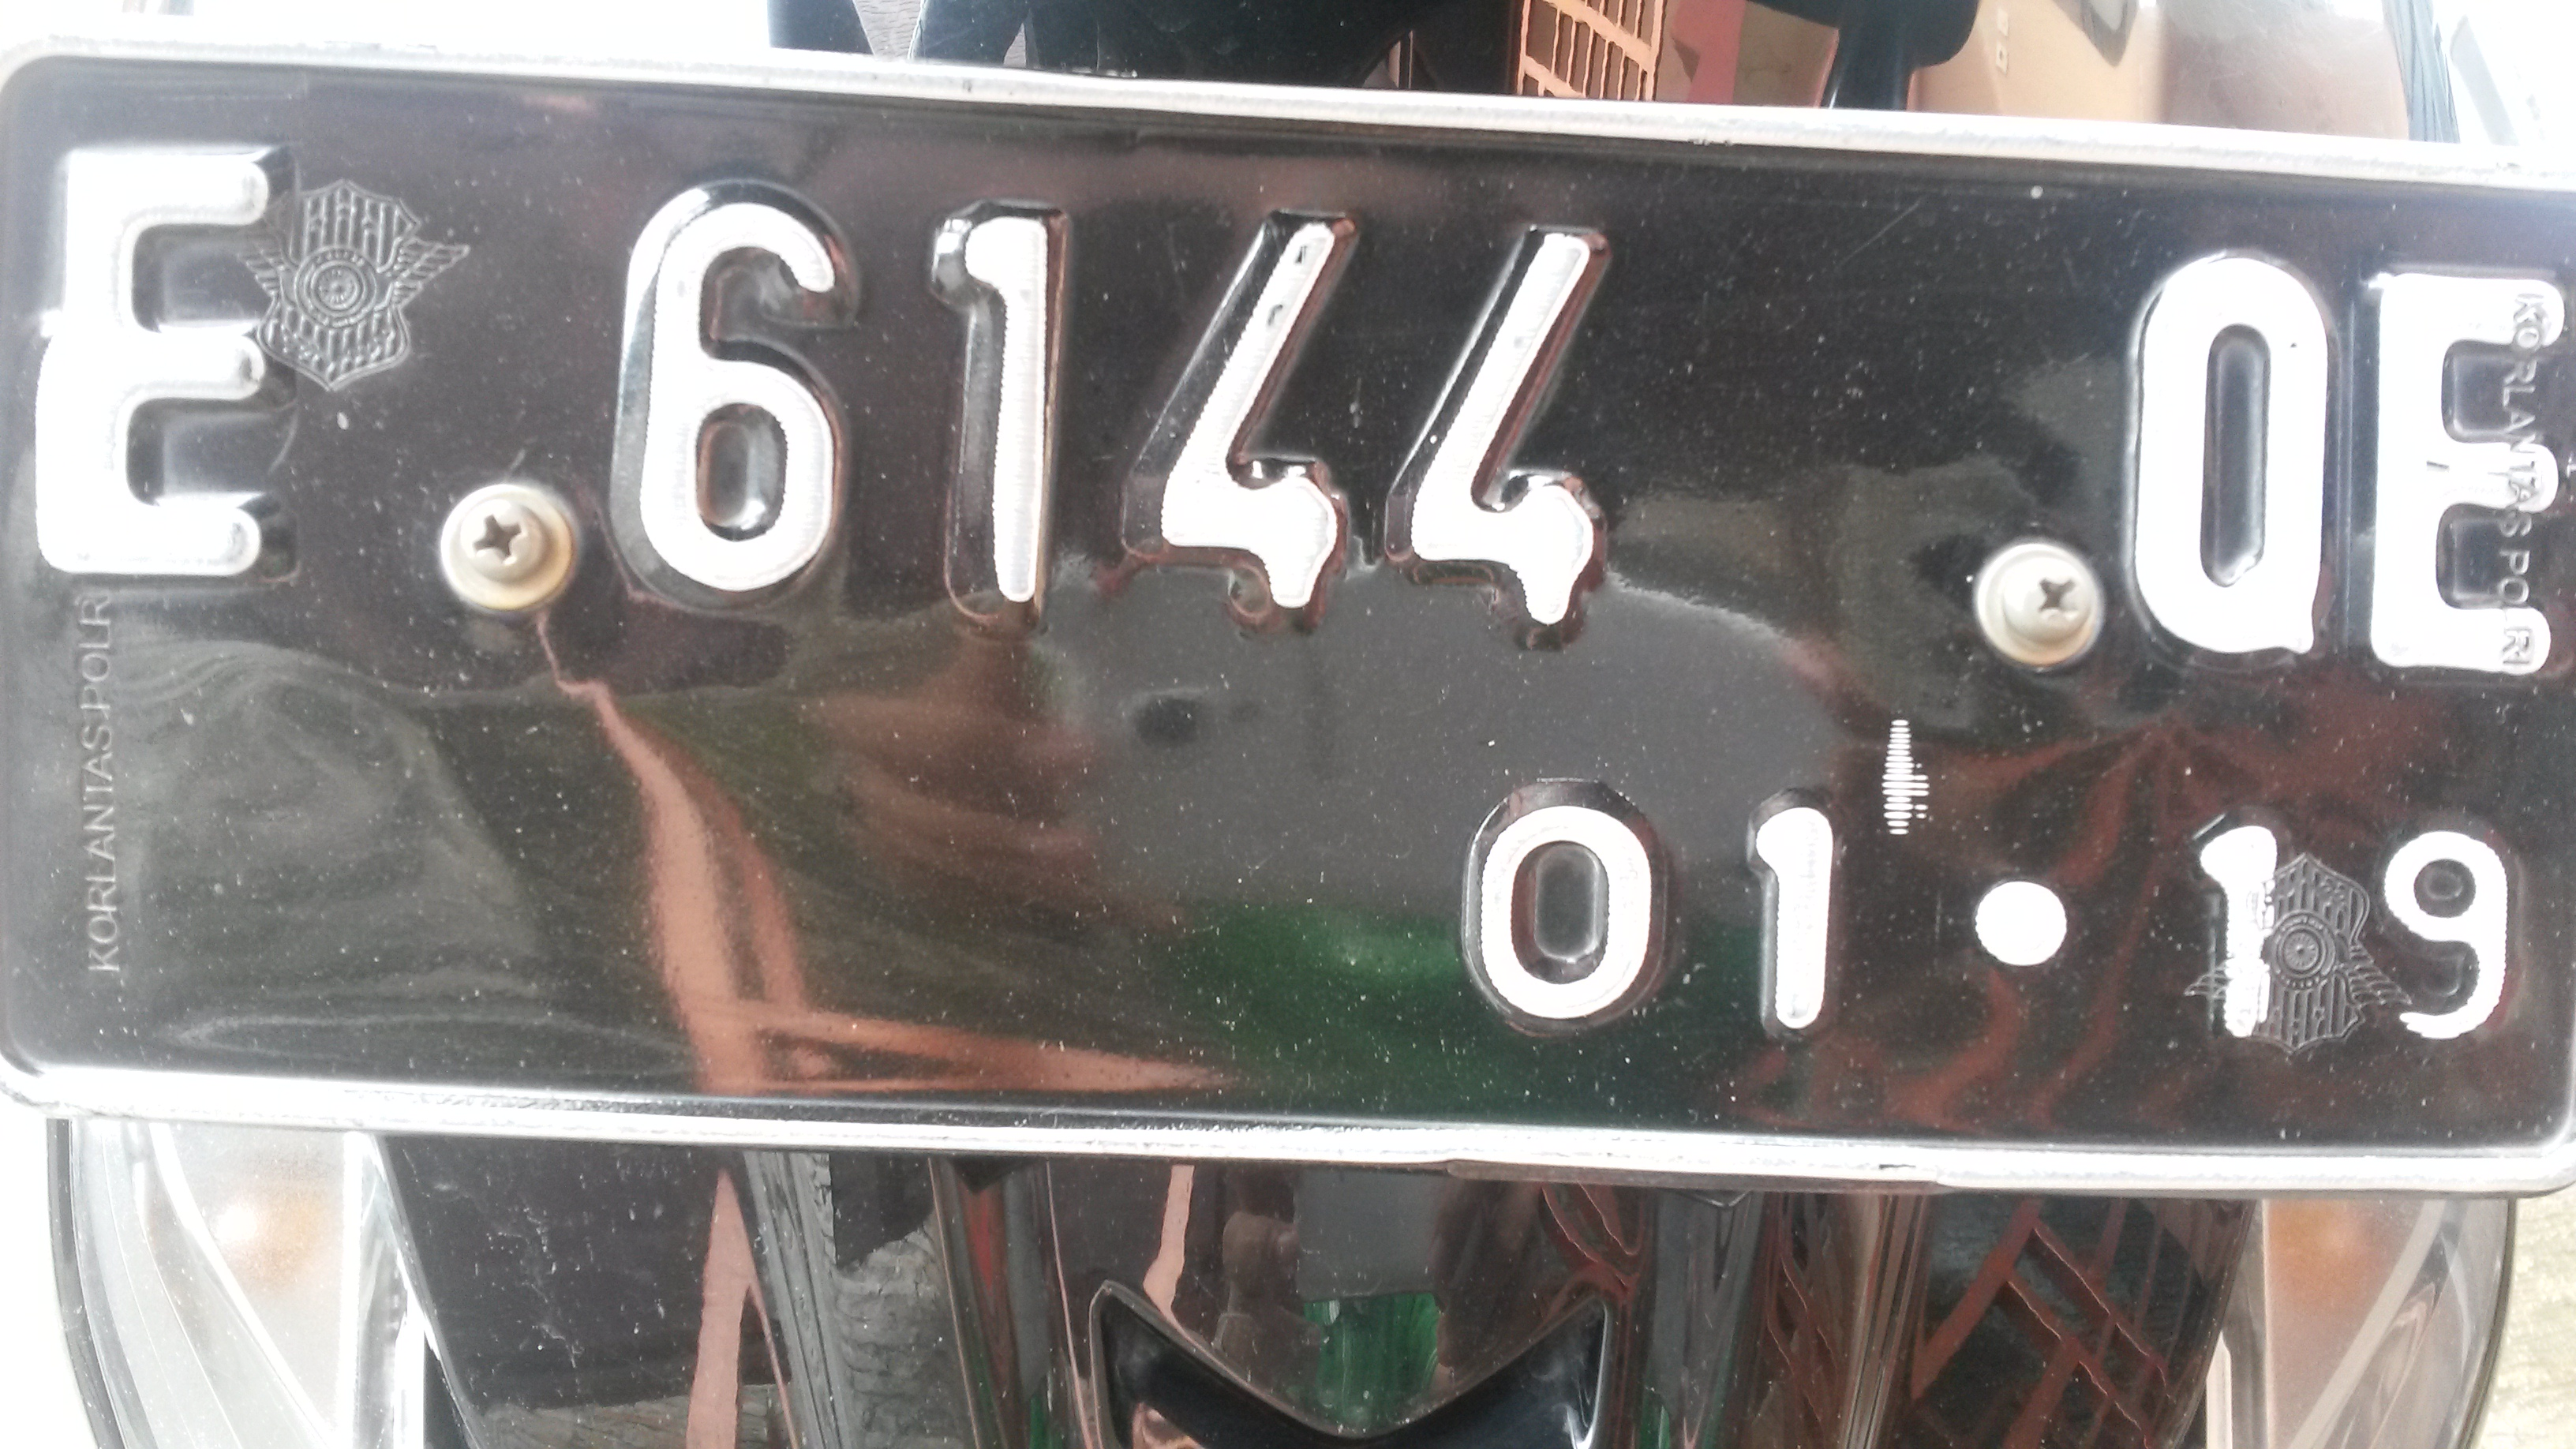plate: (1, 32, 2576, 1211)
